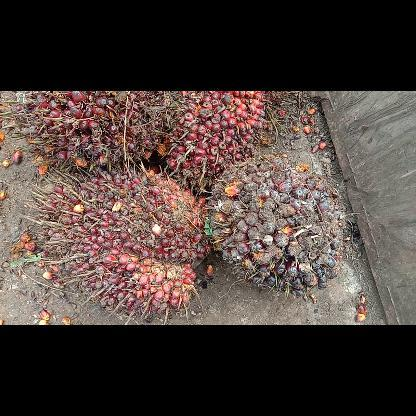Kurang masak: (202, 150, 353, 296)
TBS masak: (27, 162, 213, 324), (0, 91, 168, 179), (153, 90, 273, 198)
